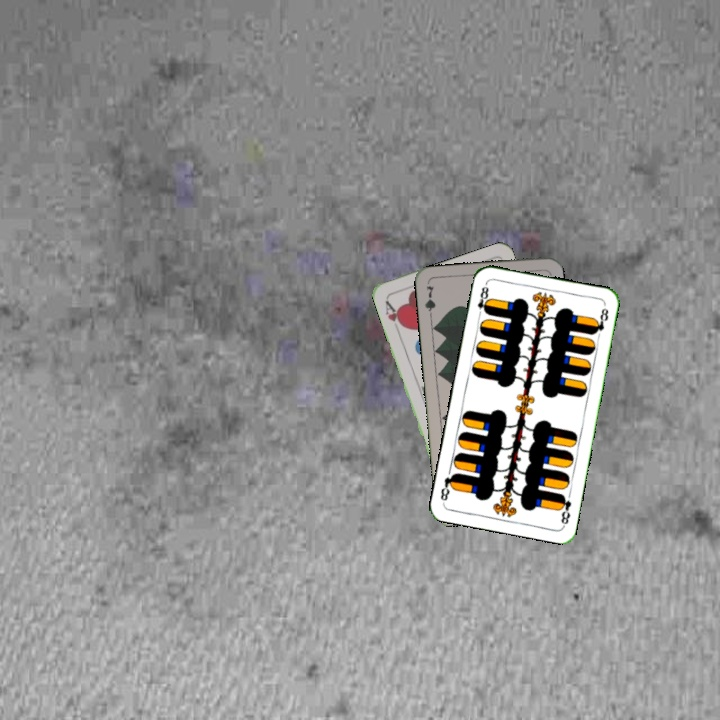E8: (473, 280, 492, 320), (555, 490, 574, 528)
G7: (421, 282, 438, 322)
HA: (381, 296, 406, 334)
